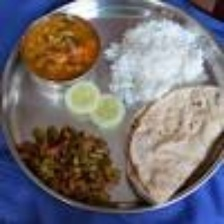sabzi: (19, 13, 100, 83)
